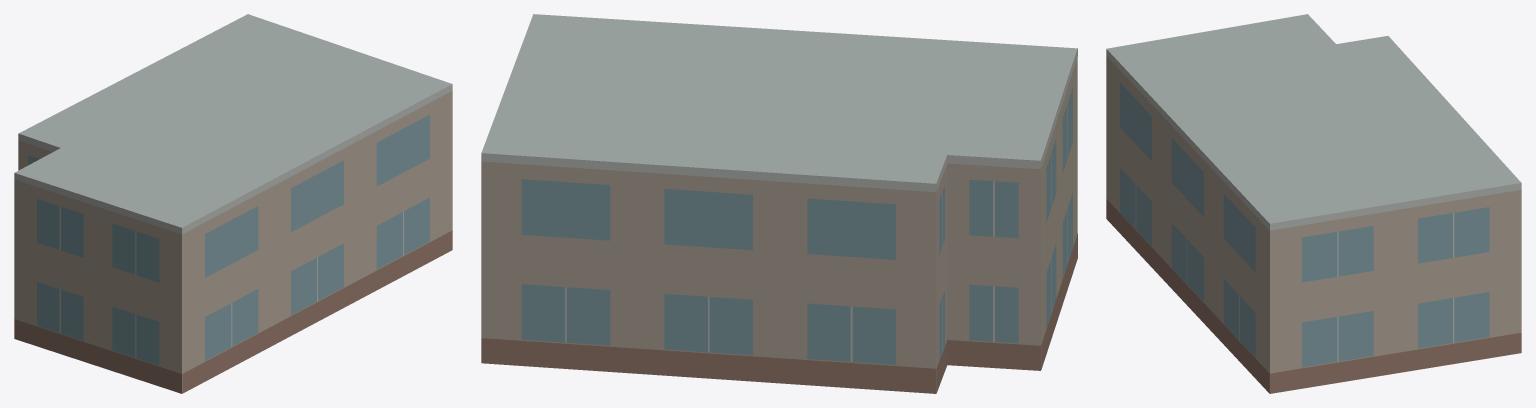
Rendered from survey-upis-32840835.glb.
3 renders of one model, left to right at view 1: azimuth 30°, elevation 25°; view 2: azimuth 150°, elevation 25°; view 3: azimuth 270°, elevation 25°, orthographic. The views are drawn at different scales.
Visible parts, largest first — view 1: survey-upis-32840835.tmp; view 2: survey-upis-32840835.tmp; view 3: survey-upis-32840835.tmp.
Boxes of the visible parts, <box> form: survey-upis-32840835.tmp: <box>14,14,452,393</box>; survey-upis-32840835.tmp: <box>481,14,1077,393</box>; survey-upis-32840835.tmp: <box>1106,14,1521,393</box>.
Bounding box in the file's own units: 16.15 × 6.1 × 13.51.
